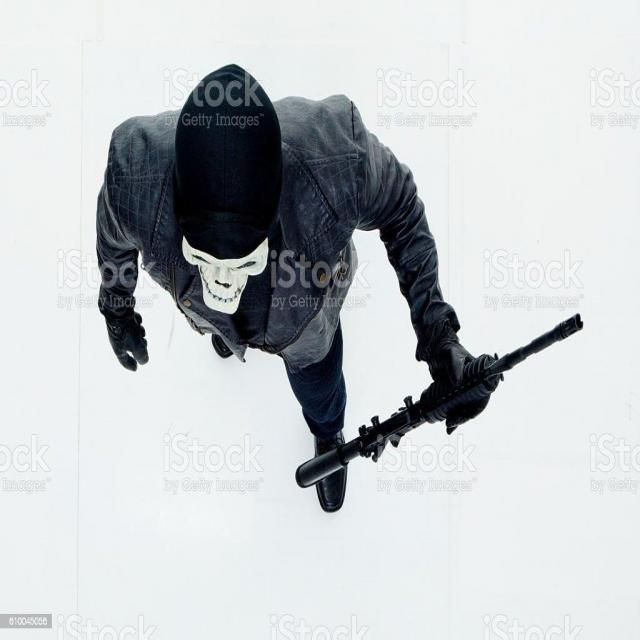gun: (293, 316, 583, 484)
